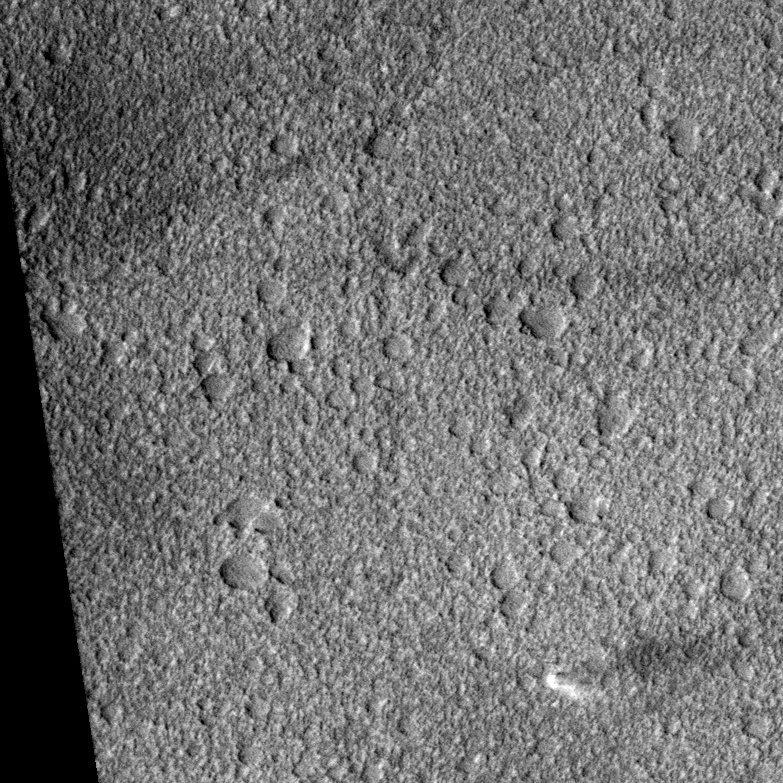dust_devil: (544, 631, 724, 710)
